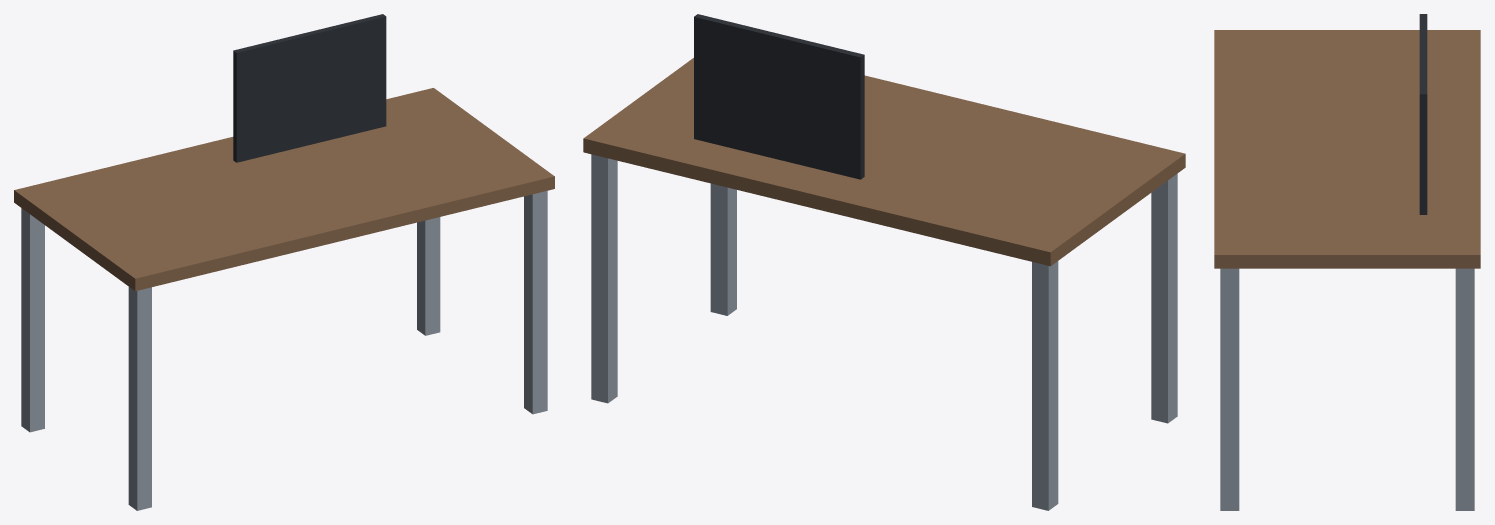
Rendered from desk.glb.
3 views of the same model, side by side, from view 1: azimuth 30°, elevation 25°; view 2: azimuth 150°, elevation 25°; view 3: azimuth 270°, elevation 25° (orthographic). The views are drawn at different scales.
Visible parts, largest first — view 1: desk; view 2: desk; view 3: desk.
Part boxes in pixels (left/top/right/bottom): desk: left=14, top=14, right=554, bottom=510; desk: left=583, top=14, right=1185, bottom=510; desk: left=1214, top=14, right=1480, bottom=510.
Bounding box in the file's own units: 1.4 × 1.1 × 0.7.
